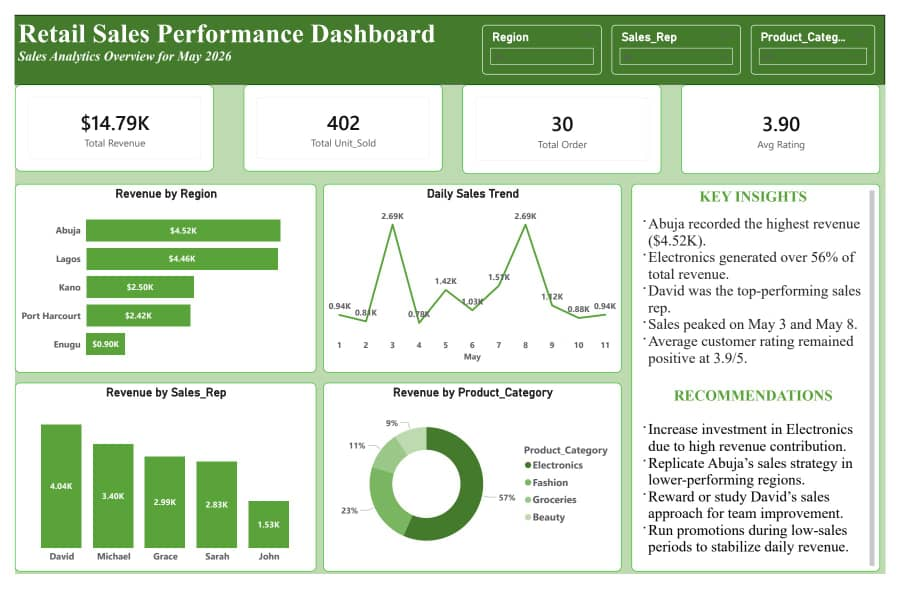

What the dashboard file says about the page in this screenshot:
{"tool":"powerbi","page":{"name":"Page 1","canvas":[1400,900],"ordinal":0},"visuals":[{"type":"cardVisual","fields":{"Data":["Retail Sales Performance.Total Order"]},"box":[720,112,320,144],"z":0},{"type":"cardVisual","fields":{"Data":["Retail Sales Performance.Total Revenue"]},"box":[0,112,320,140],"z":1000},{"type":"cardVisual","fields":{"Data":["Retail Sales Performance.Total Unit_Sold"]},"box":[368,112,320,140],"z":2000},{"type":"barChart","title":"Revenue by Region","fields":{"Category":["Retail Sales Performance.Region"],"Y":["Retail Sales Performance.Total Revenue"]},"box":[0,272,485,304],"z":3000},{"type":"donutChart","title":"Revenue by Product_Category","fields":{"Category":["Retail Sales Performance.Product_Category"],"Y":["Sum(Retail Sales Performance.Revenue)"]},"box":[496,592,480,304],"z":4000},{"type":"lineChart","title":"Daily Sales Trend ","fields":{"Category":["Retail Sales Performance.Date.Variation.Date Hierarchy.Month","Retail Sales Performance.Date.Variation.Date Hierarchy.Day"],"Y":["Sum(Retail Sales Performance.Revenue)"]},"box":[496,272,480,304],"z":5000},{"type":"columnChart","title":"Revenue by Sales_Rep","fields":{"Y":["Sum(Retail Sales Performance.Revenue)"],"Category":["Retail Sales Performance.Sales_Rep"]},"box":[0,592,485,304],"z":6000},{"type":"cardVisual","fields":{"Data":["Retail Sales Performance.Avg Rating"]},"box":[1072,112,320,144],"z":7000},{"type":"shape","box":[-8,0,1408,112],"z":8000},{"type":"textbox","box":[992,272,400,624],"z":9000},{"type":"slicer","fields":{"Values":["Retail Sales Performance.Product_Category"]},"box":[1184,16,200,80],"z":10000},{"type":"slicer","fields":{"Values":["Retail Sales Performance.Sales_Rep"]},"box":[960,16,208,80],"z":11000},{"type":"slicer","fields":{"Values":["Retail Sales Performance.Region"]},"box":[752,16,192,80],"z":12000},{"type":"textbox","box":[0,0,752,112],"z":13000}]}

Visuals, with their boxes in screenshot pixels (x1, y1, x2, y2), scaled from the page's 1400x900 canvas onto the 900x589 screenshot:
cardVisual - Retail Sales Performance.Total Order: (x1=463, y1=73, x2=669, y2=168)
cardVisual - Retail Sales Performance.Total Revenue: (x1=0, y1=73, x2=206, y2=165)
cardVisual - Retail Sales Performance.Total Unit_Sold: (x1=237, y1=73, x2=442, y2=165)
"Revenue by Region" barChart: (x1=0, y1=178, x2=312, y2=377)
"Revenue by Product_Category" donutChart: (x1=319, y1=387, x2=627, y2=586)
"Daily Sales Trend " lineChart: (x1=319, y1=178, x2=627, y2=377)
"Revenue by Sales_Rep" columnChart: (x1=0, y1=387, x2=312, y2=586)
cardVisual - Retail Sales Performance.Avg Rating: (x1=689, y1=73, x2=895, y2=168)
shape: (x1=0, y1=0, x2=899, y2=73)
textbox: (x1=638, y1=178, x2=895, y2=586)
slicer - Retail Sales Performance.Product_Category: (x1=761, y1=10, x2=890, y2=63)
slicer - Retail Sales Performance.Sales_Rep: (x1=617, y1=10, x2=751, y2=63)
slicer - Retail Sales Performance.Region: (x1=483, y1=10, x2=607, y2=63)
textbox: (x1=0, y1=0, x2=483, y2=73)
